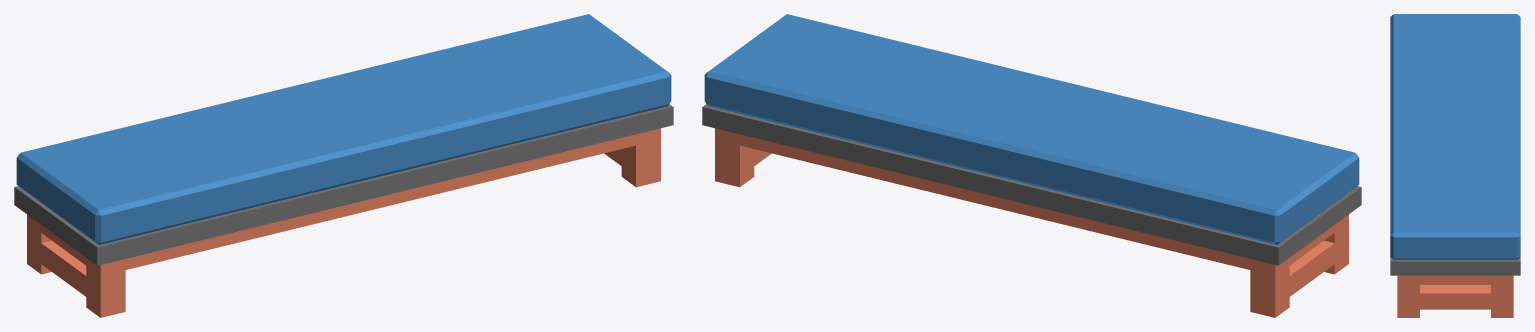
File: Safe_Bench_01.fbx
The picture shows the model from 3 angles, left to right: view 1: azimuth 30°, elevation 25°; view 2: azimuth 150°, elevation 25°; view 3: azimuth 270°, elevation 25°; orthographic projection. The views are drawn at different scales.
Visible parts, largest first — view 1: Safe_Bench_01; view 2: Safe_Bench_01; view 3: Safe_Bench_01.
Boxes of the visible parts, left/top/right/bottom form: Safe_Bench_01: left=14, top=14, right=673, bottom=317; Safe_Bench_01: left=702, top=14, right=1361, bottom=317; Safe_Bench_01: left=1390, top=14, right=1520, bottom=317.
Size of the model in its own units: 462 by 84.72 by 115.
